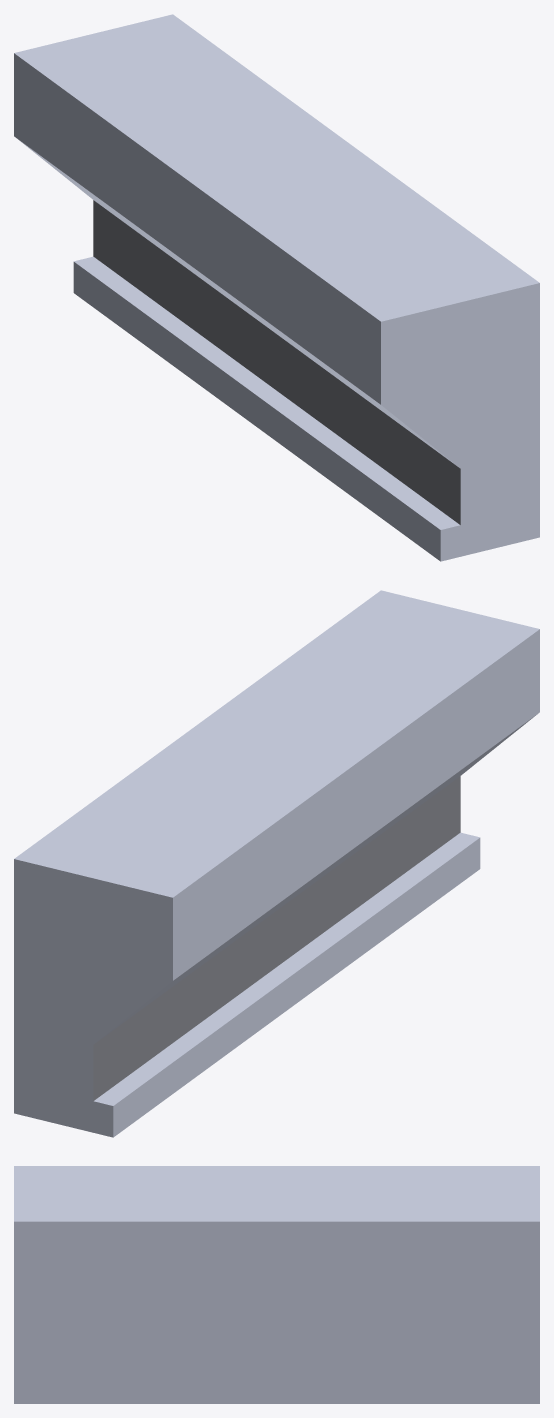
The picture shows the model from 3 angles, top to bottom: view 1: azimuth 30°, elevation 25°; view 2: azimuth 150°, elevation 25°; view 3: azimuth 270°, elevation 25°; orthographic projection. The views are drawn at different scales.
Visible parts, largest first — view 1: object_040; view 2: object_040; view 3: object_040.
Boxes of the visible parts, <box> form: object_040: <box>14,14,539,561</box>; object_040: <box>14,590,539,1137</box>; object_040: <box>14,1166,539,1403</box>.
Size of the model in its own units: 2.5 by 3.82 by 10.
